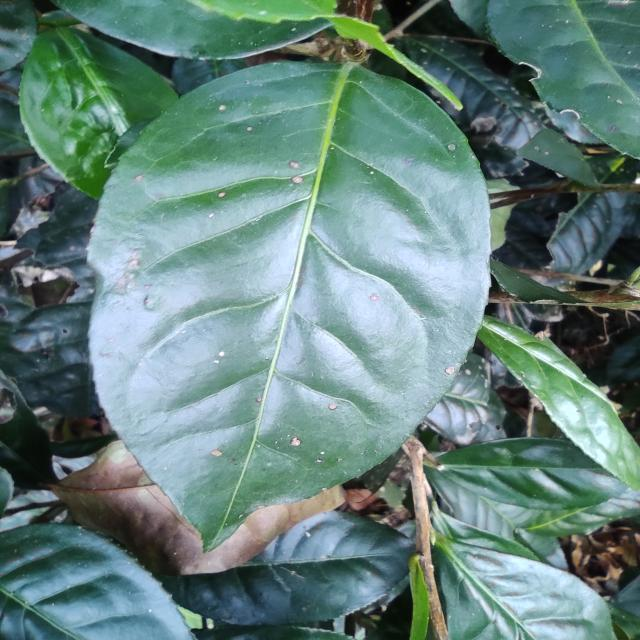Category D(7+ days, Not for Tea): (74, 51, 500, 540)
